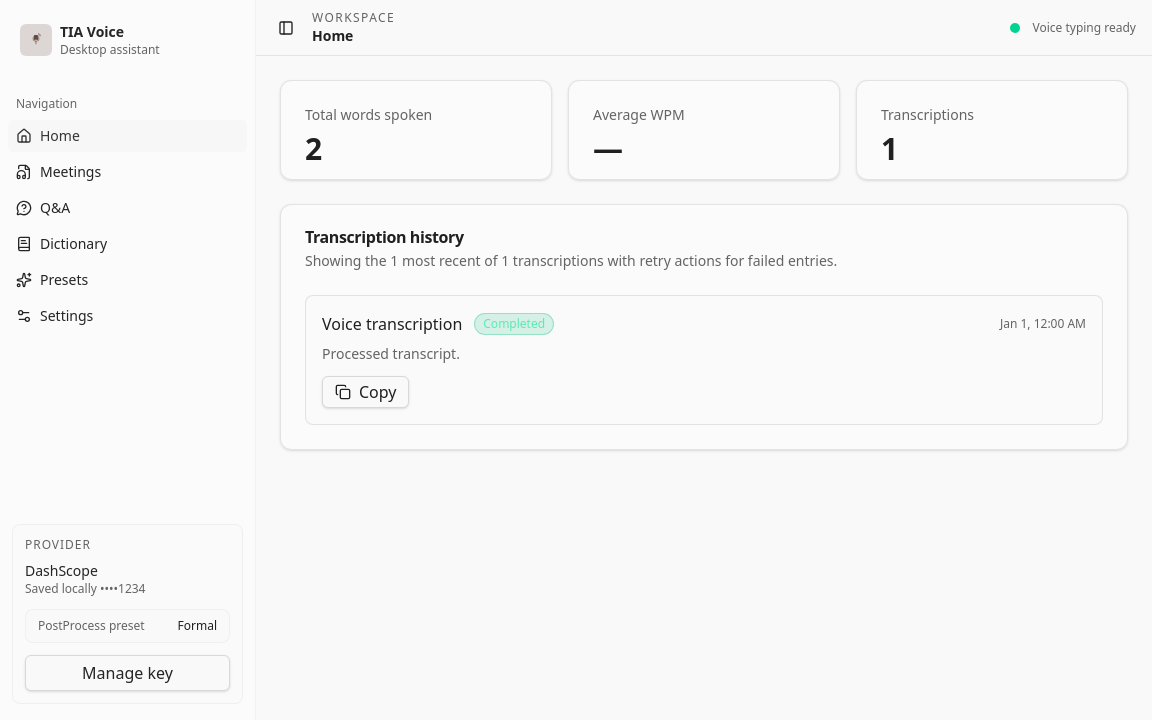
Scenario: MainAppWindow › copies a saved transcription from history
This screenshot has width=1152, height=720.
Click the button "Copy": (366, 392) [322,376,410,408]
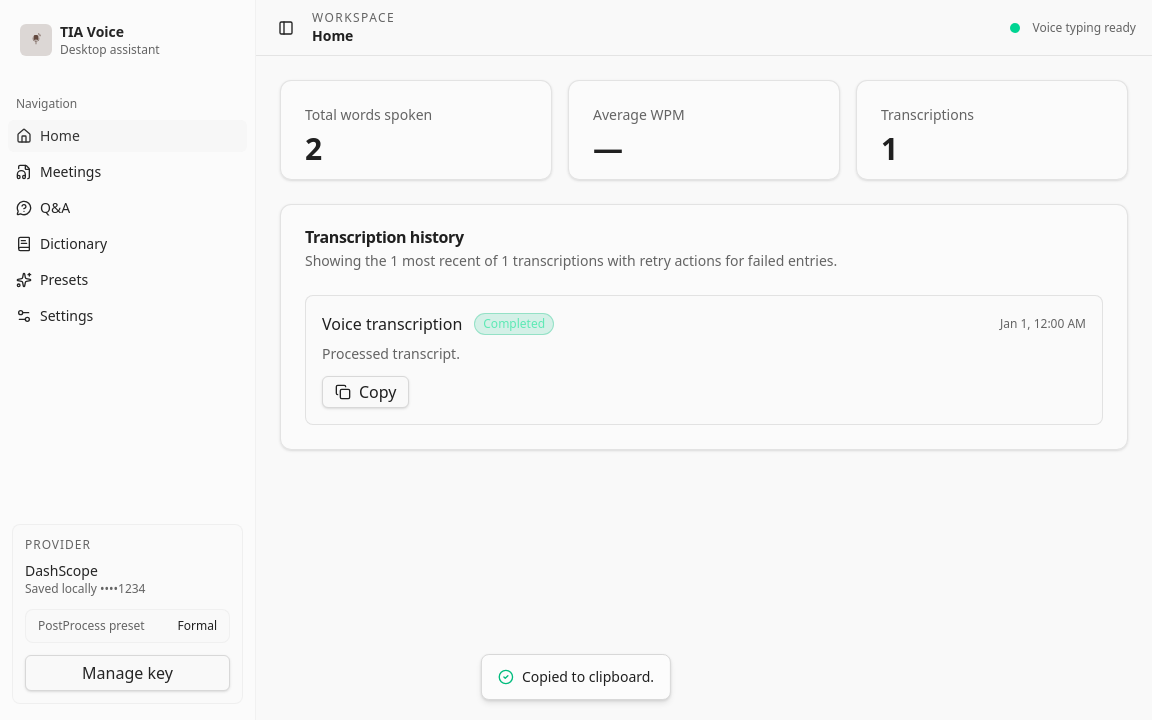
Expected: the text "Copied to clipboard." is shown, [522,667,654,687]
